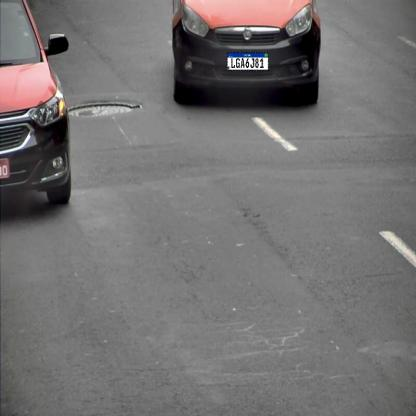PlacaM: (227, 52, 269, 71)
